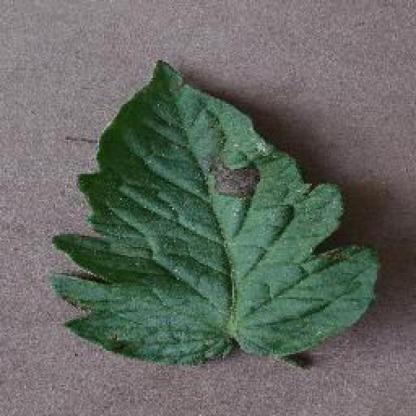Tomato_Blight: (55, 60, 379, 364)
